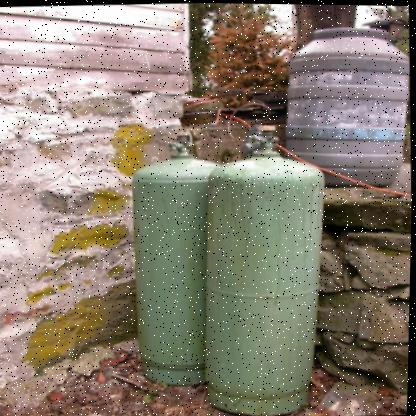gas-tank: (190, 109, 352, 415), (117, 132, 238, 414)
